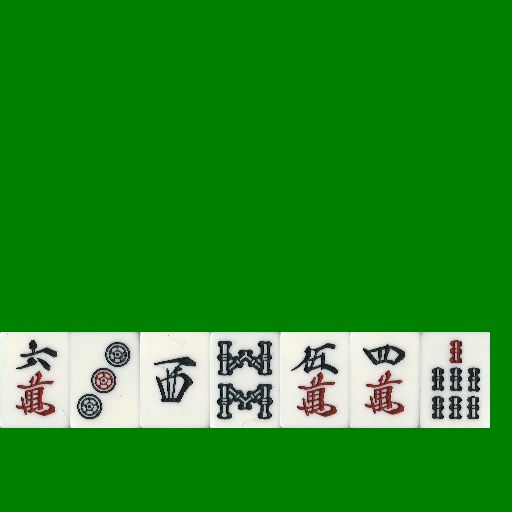3p: (70, 332, 140, 428)
4m: (350, 332, 420, 428)
5m: (280, 332, 350, 428)
6m: (0, 332, 70, 428)
7s: (420, 332, 490, 428)
8s: (210, 332, 280, 428)
west: (140, 332, 210, 428)
